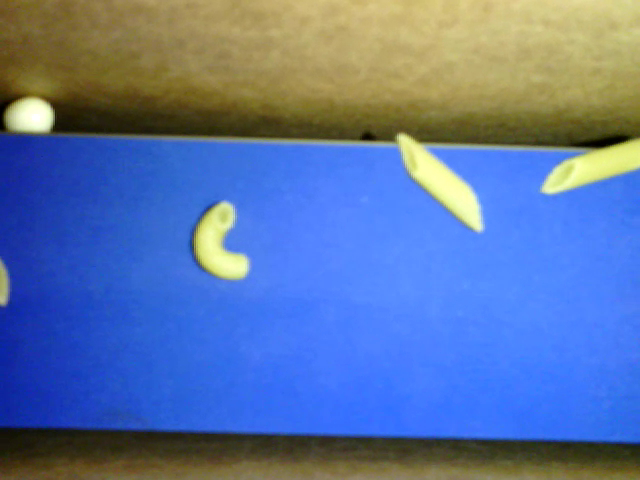elbow: (192, 201, 249, 279)
penne: (396, 131, 484, 233), (541, 137, 639, 194)
